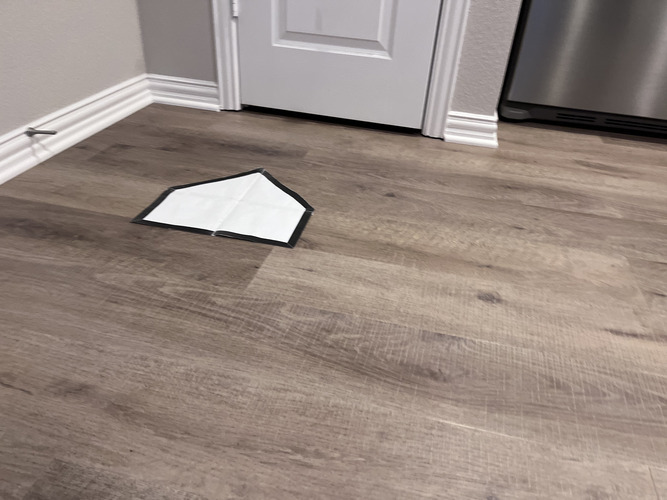homeplate: (132, 169, 314, 247)
